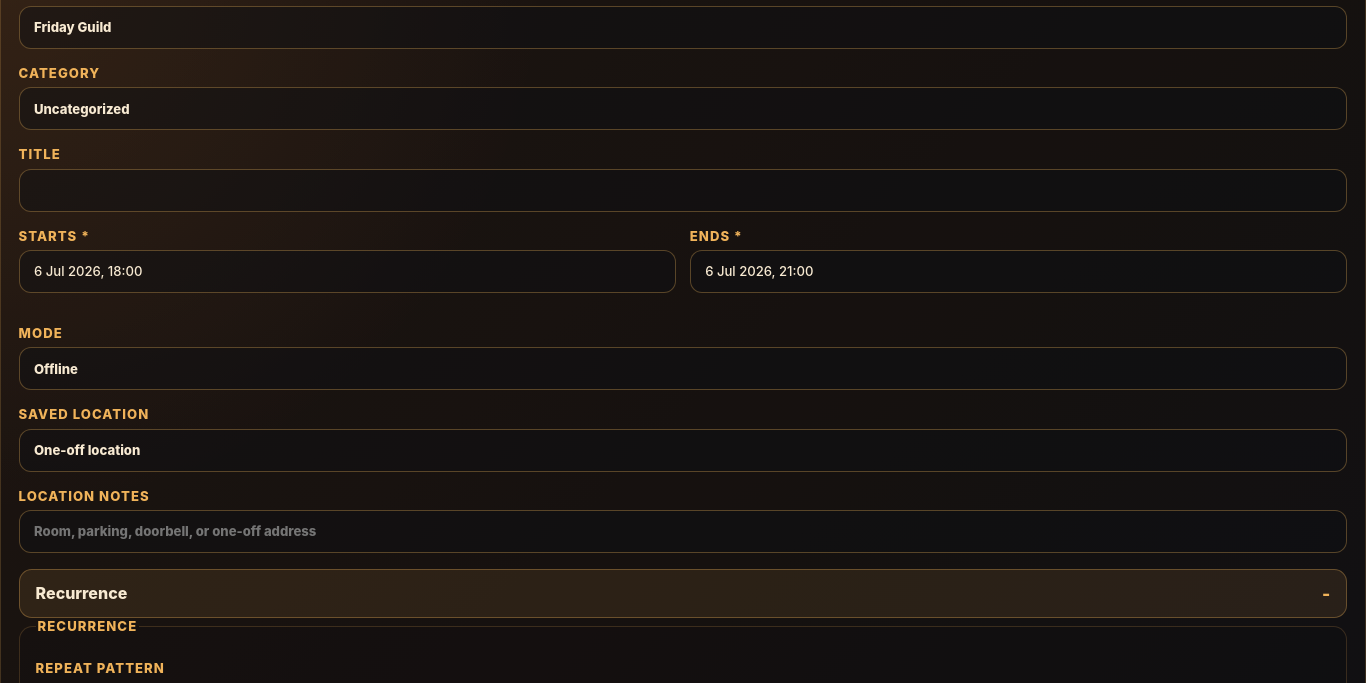
Test: EventForm › shows localized date-time picker controls
What coordinates should you click on to do the following:
click the button named "Starts "
I would click on:
 (88, 271)
Its box is left=19, top=250, right=676, bottom=293.
(page scrolled)
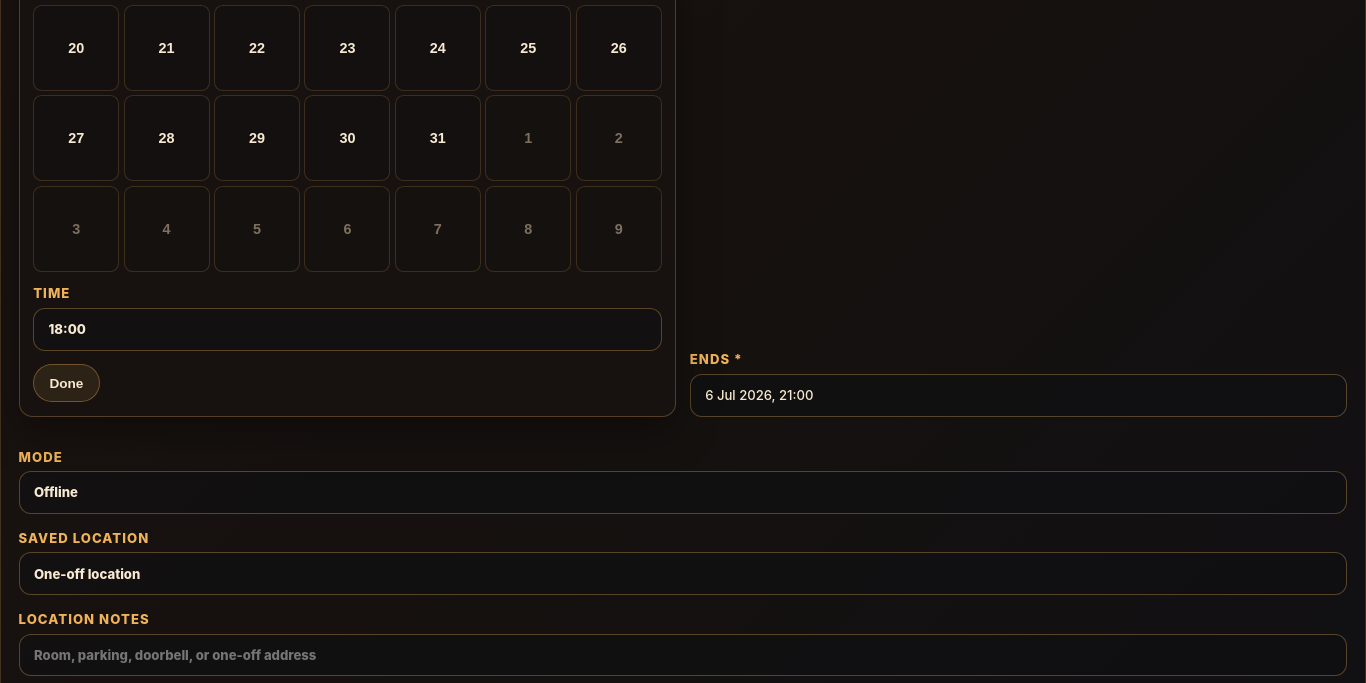
Expected: the dropdown labelled "Time" shows "18:00", left=33, top=308, right=662, bottom=350
